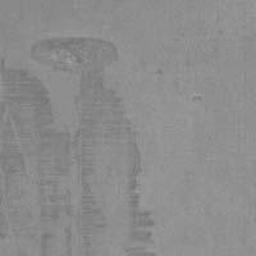Oil spot: (0, 36, 157, 256)
